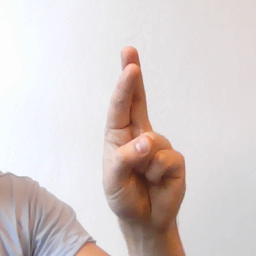R: (97, 43, 192, 220)
